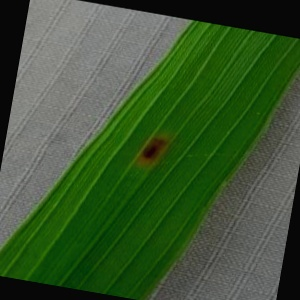Bacterial_Leaf_Blight: (132, 124, 175, 172)
